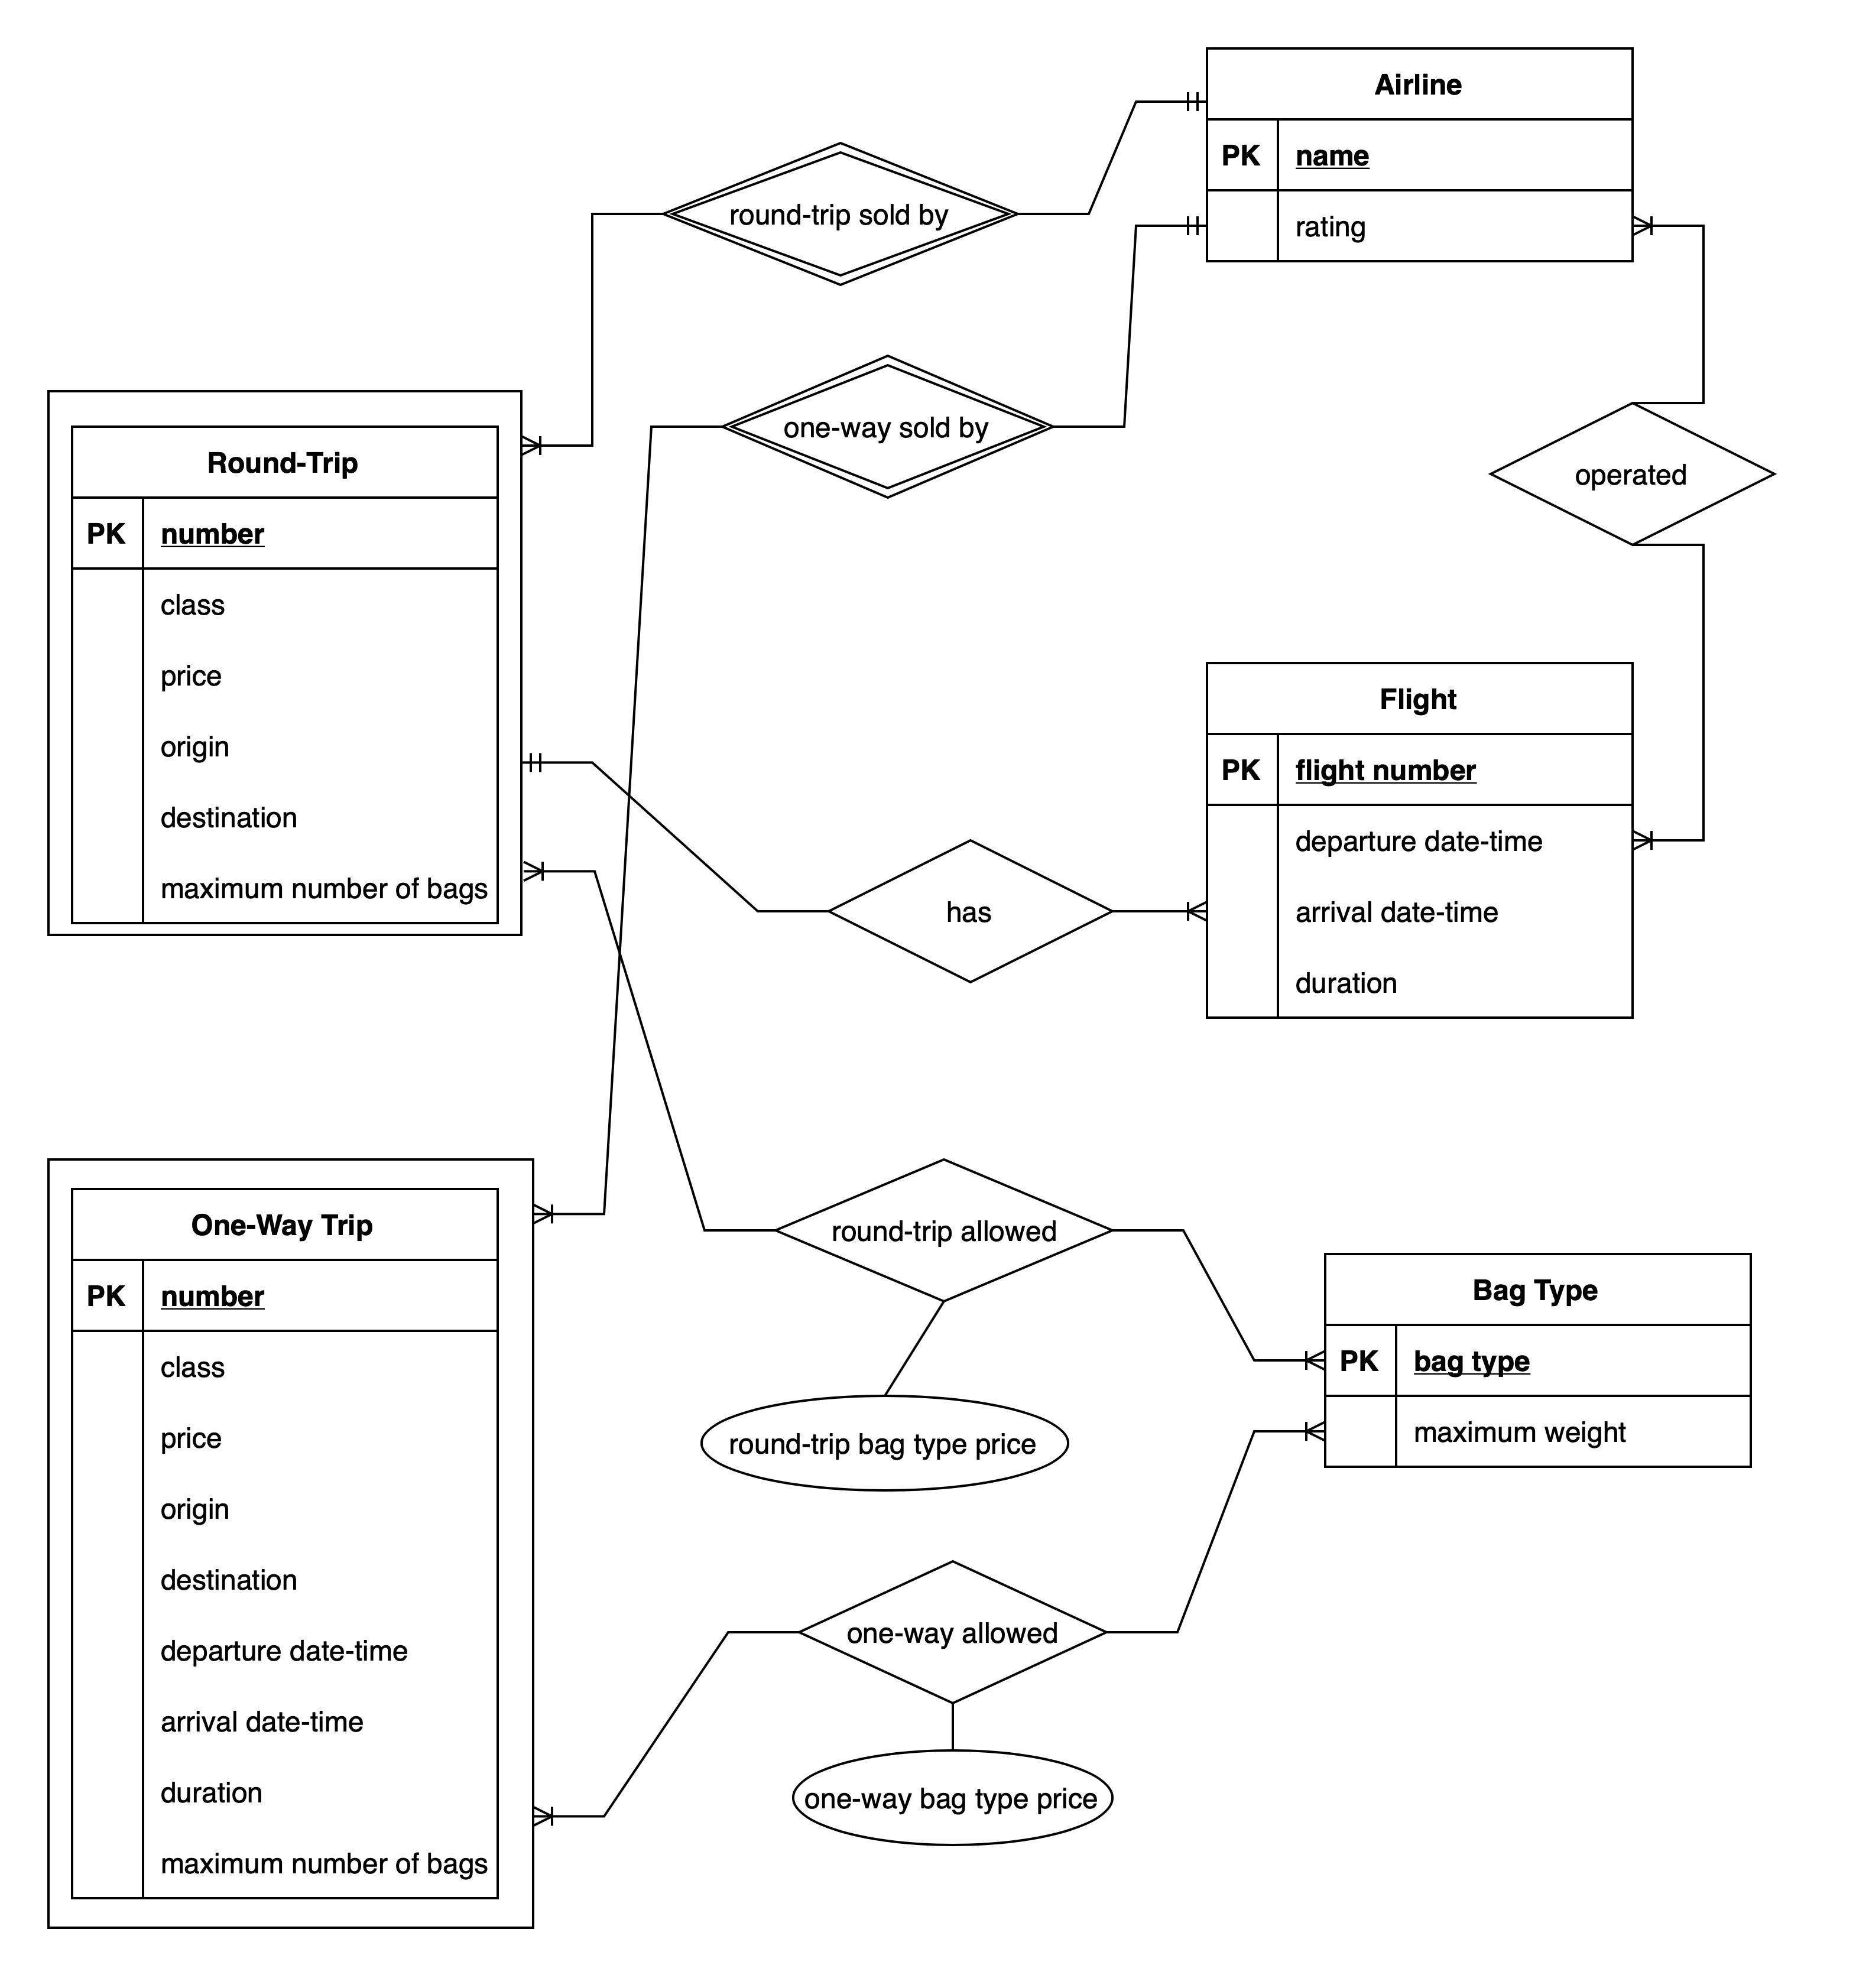attribute: (699, 1394, 1068, 1493), (790, 1749, 1110, 1849)
entity: (1191, 655, 1637, 1024), (1196, 37, 1646, 269), (1321, 1249, 1757, 1475)
relationship: (778, 1152, 1108, 1300), (806, 1559, 1101, 1700), (1490, 409, 1781, 550), (834, 845, 1108, 985)
weakentity: (40, 1149, 539, 1937), (44, 386, 530, 945)
weakrelationship: (673, 137, 1012, 285), (717, 353, 1063, 497)
